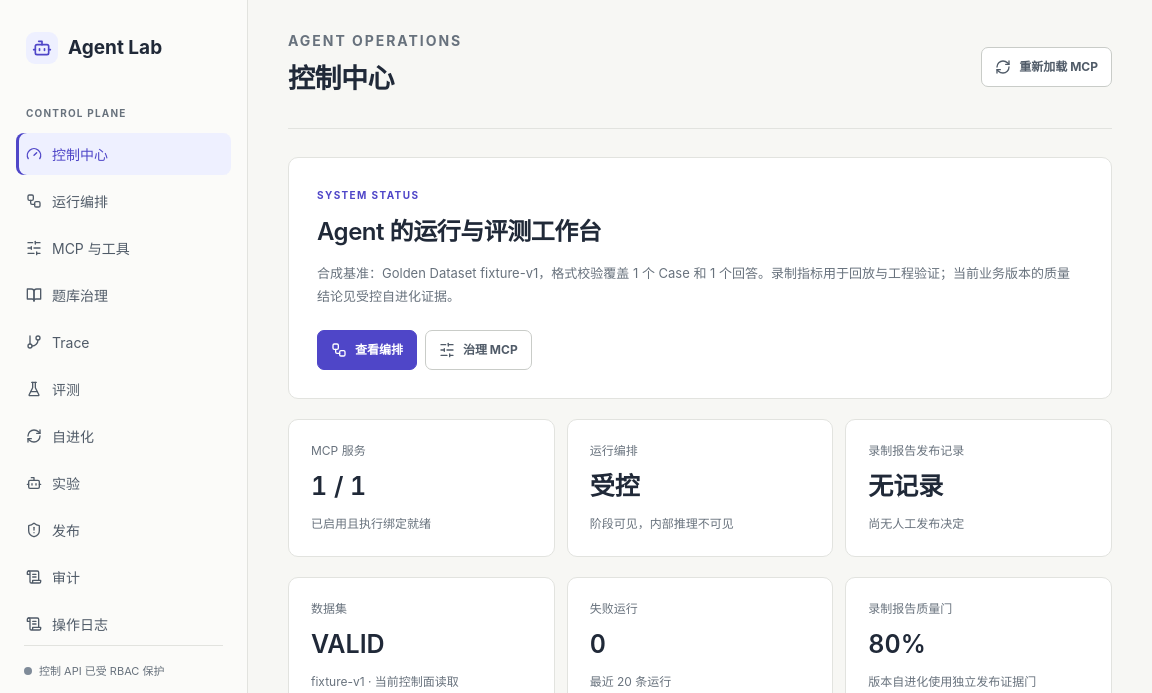
Test case: MCP workspace process scope and state recovery › does not claim a failed explicit GET refreshed state or change the cached enabled state
Click the button "治理 MCP": (478, 350) [425,330,532,370]
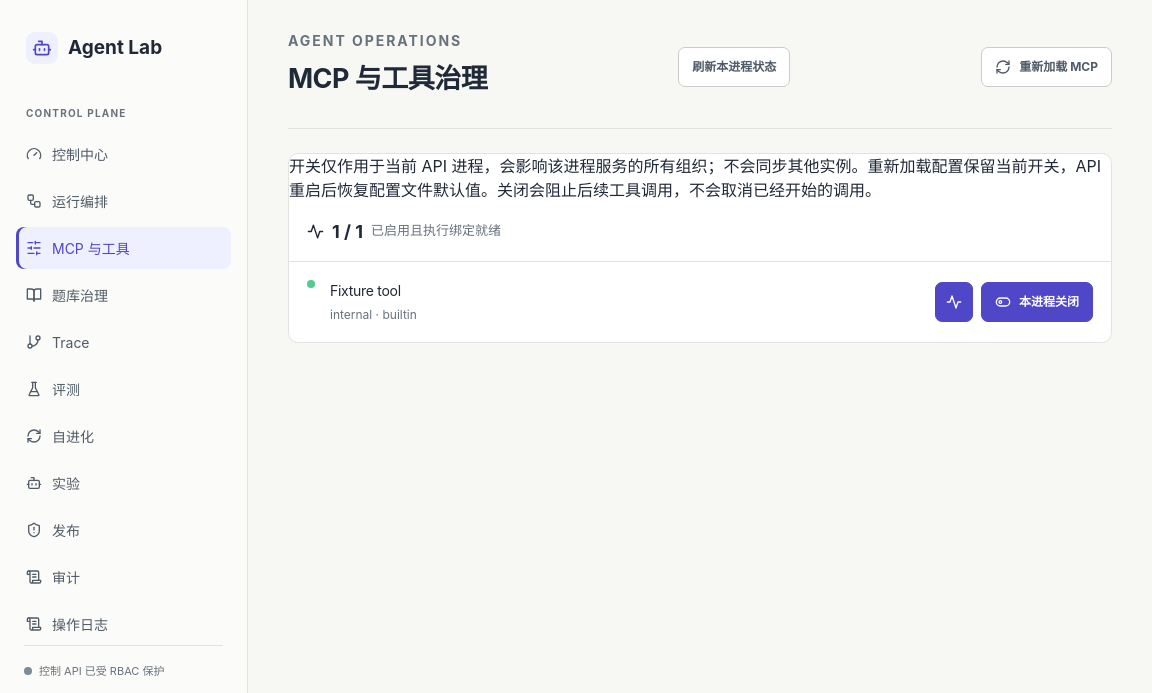
Expected: the button "本进程关闭" is shown, [981,282,1093,322]
Click the button "刷新本进程状态": (734, 67) [678,47,790,87]
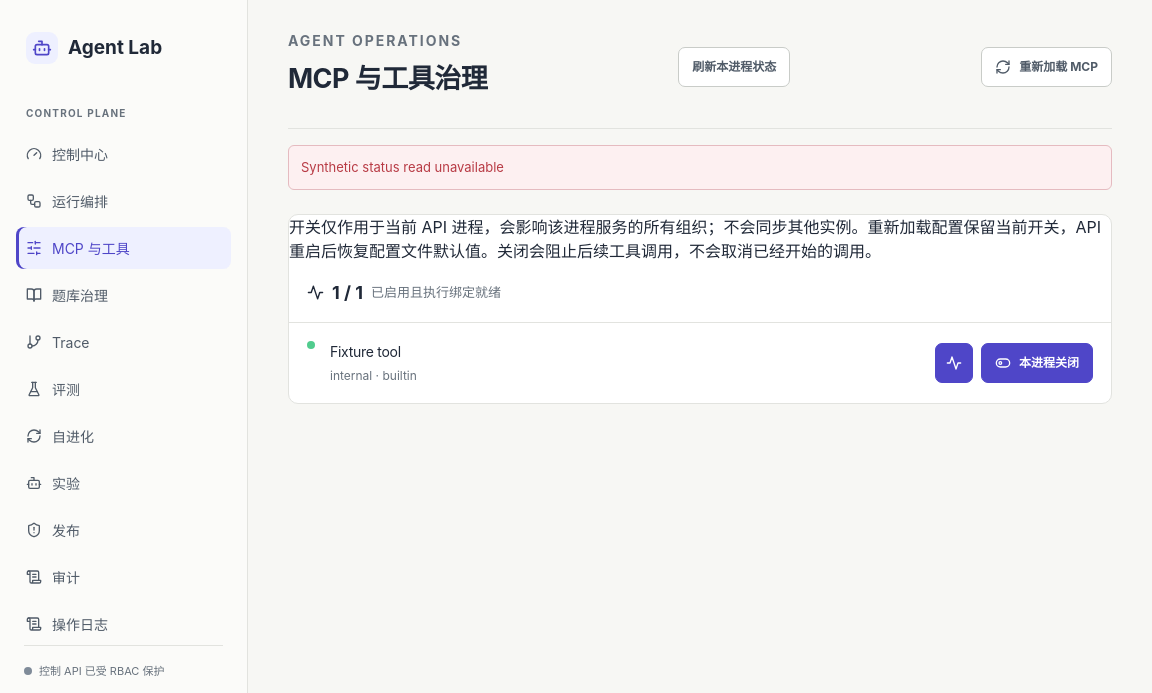
Expected: the button "本进程关闭" is shown, [981,343,1093,383]
Expected: the text "Synthetic status read unavailable" is shown, [288,144,1112,190]
